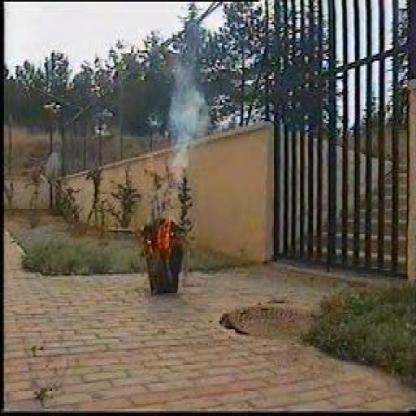-: (155, 49, 212, 166)
foggia-v2-map80-epoch100 - v1 4323: (157, 220, 175, 250)
